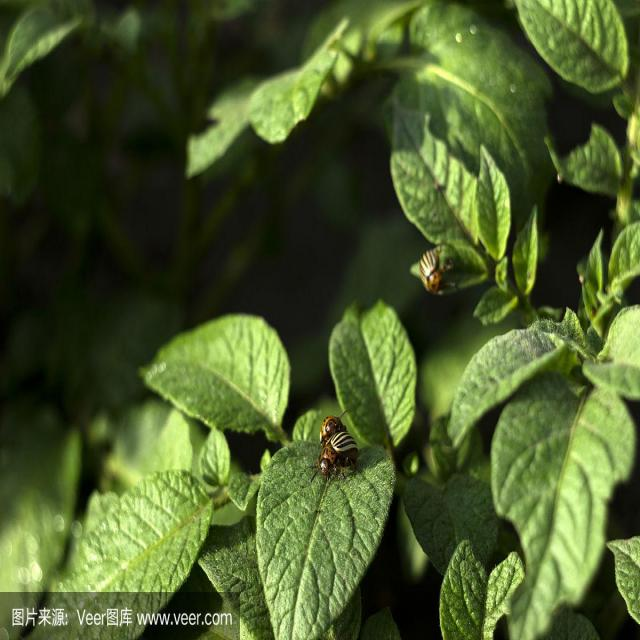ShuCaiHuaBanChong-Grown-: (413, 240, 456, 308), (318, 434, 364, 477)
